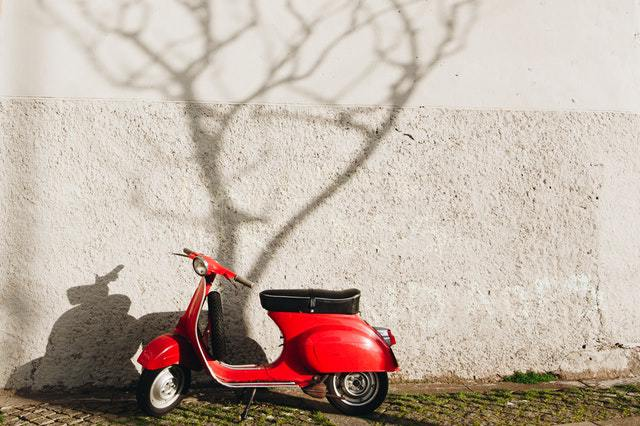电动车: (108, 245, 408, 424)
